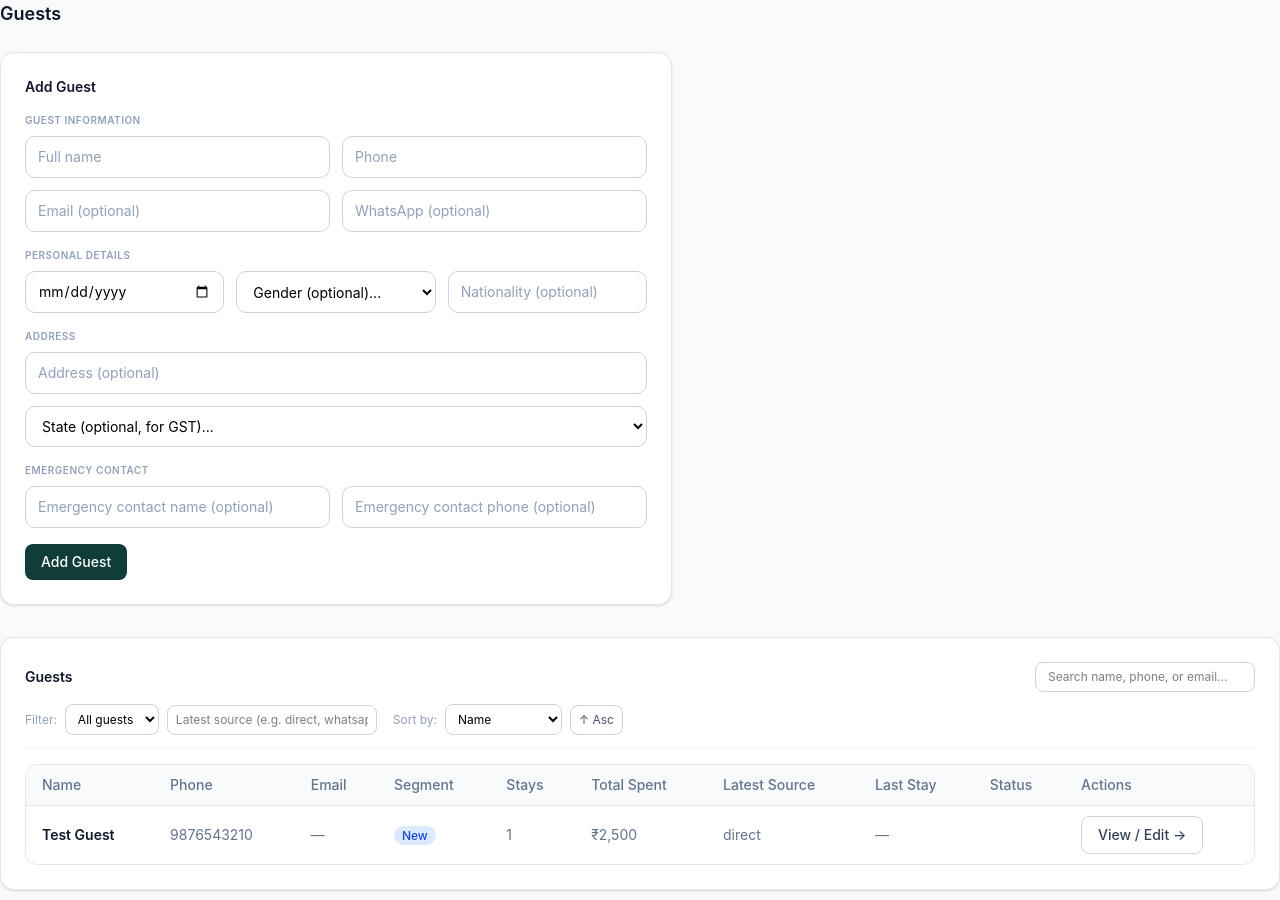
Test: GuestsPage — Guest Merge visibility (RBAC Phase B security fix, finding I-7) › Manager does not see the Merge Duplicate control
The width and height of the screenshot is (1280, 900).
Click the button "View / Edit →": (1142, 835) [1081, 816, 1203, 854]
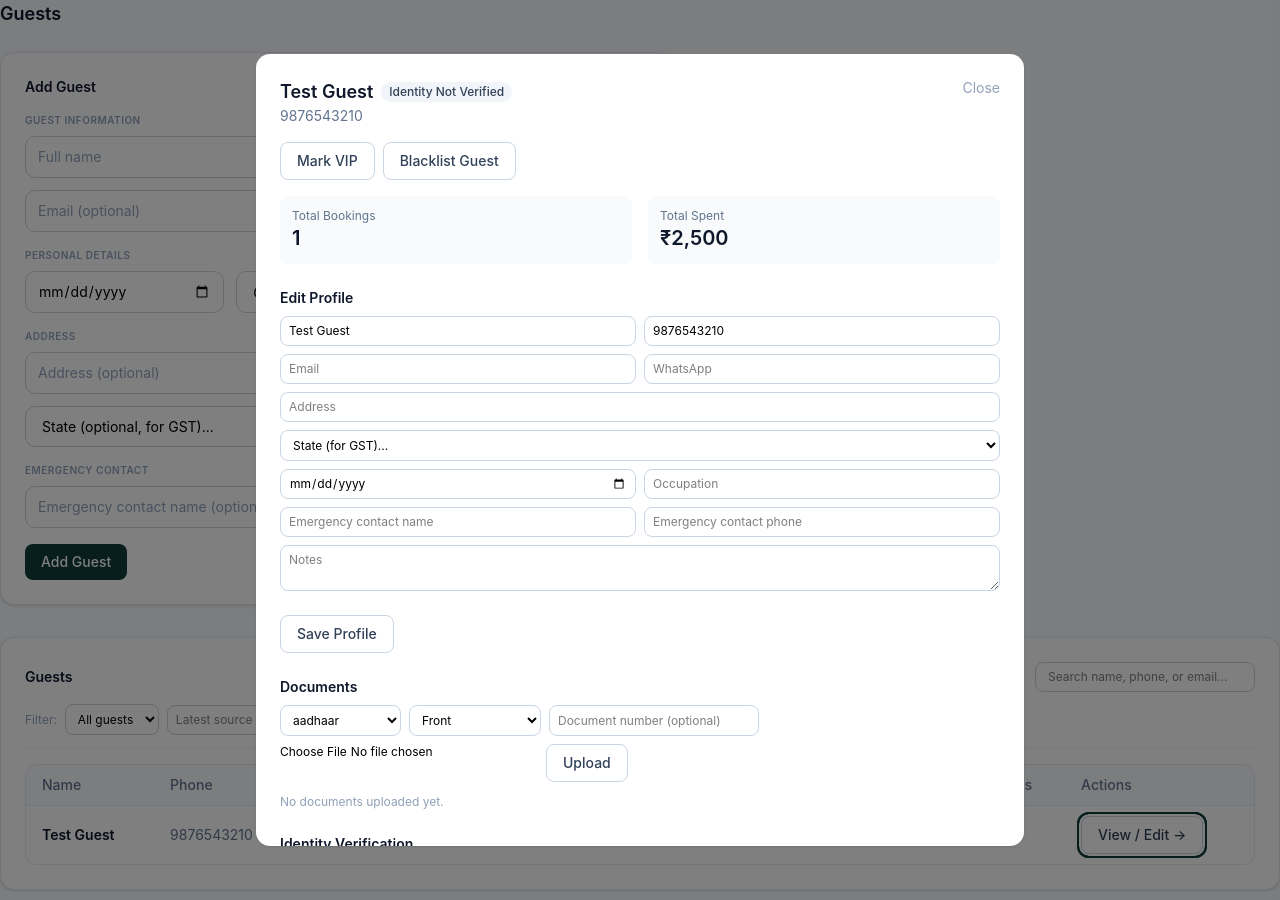
Expected: the button "Mark VIP" is shown, [280, 142, 375, 180]
